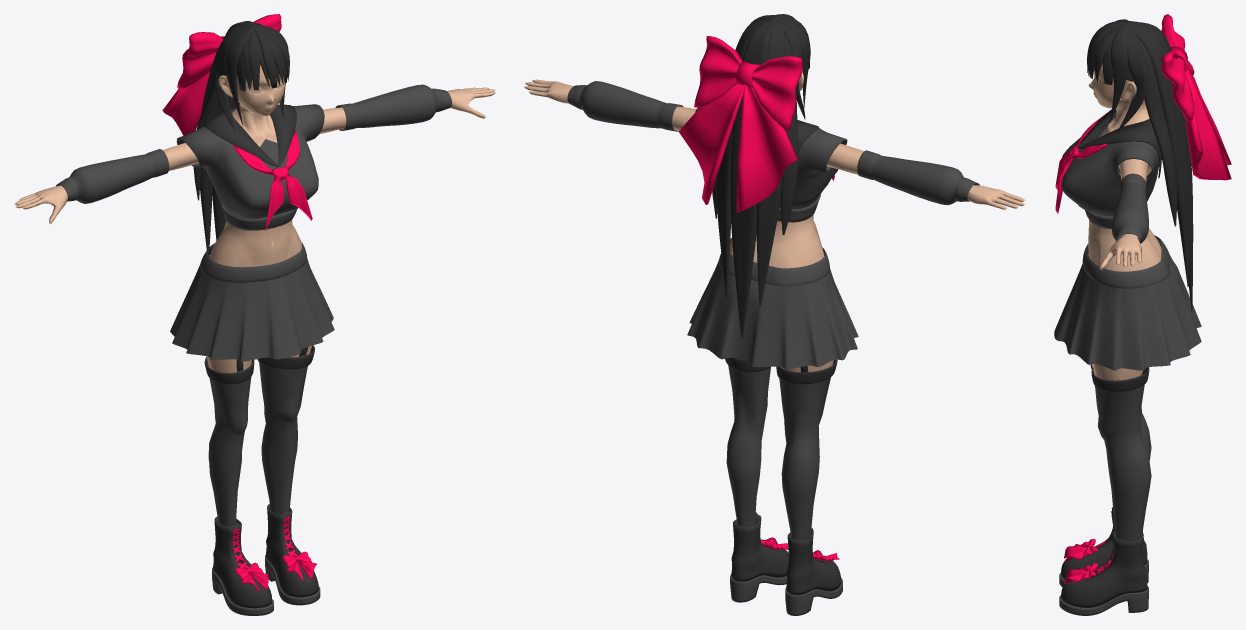
File: Elzena.Original.fbx
3 views of the same model, side by side, from view 1: azimuth 30°, elevation 25°; view 2: azimuth 150°, elevation 25°; view 3: azimuth 270°, elevation 25° (orthographic). The views are drawn at different scales.
Parts seen in each view (by area): view 1: スカート, ニーソ, 素体, 服, 袖, 靴, 髪リボン, 襟, 結.001, スカートゴム, hair.mesh.015, 靴底 (+5 smaller); view 2: 髪リボン, スカート, ニーソ, 袖, 素体, 靴, hair.mesh.002, 服, hair.mesh.015, hair.mesh.007, 靴底, スカートゴム (+2 smaller); view 3: スカート, ニーソ, 素体, 服, 髪リボン, 靴, hair.mesh.007, hair.mesh.003, 袖, スカートゴム, 襟, hair.mesh.013 (+8 smaller).
Boxes of the visible parts, <box> form: スカート: <box>170,254,334,361</box>; ニーソ: <box>208,362,307,526</box>; 素体: <box>14,64,495,372</box>; 服: <box>176,104,324,230</box>; 袖: <box>56,84,451,203</box>; 靴: <box>213,504,318,608</box>; 髪リボン: <box>162,14,281,135</box>; 襟: <box>200,104,296,167</box>; 結.001: <box>233,129,312,231</box>; スカートゴム: <box>200,243,306,282</box>; hair.mesh.015: <box>200,25,248,249</box>; 靴底: <box>212,555,320,615</box>; 髪リボン: <box>678,36,802,212</box>; スカート: <box>687,260,858,369</box>; ニーソ: <box>726,365,830,539</box>; 袖: <box>567,81,979,205</box>; 素体: <box>524,69,1025,372</box>; 靴: <box>731,512,841,595</box>; hair.mesh.002: <box>730,19,776,337</box>; 服: <box>695,107,847,222</box>; hair.mesh.015: <box>756,21,786,305</box>; hair.mesh.007: <box>716,19,768,297</box>; 靴底: <box>730,574,842,615</box>; スカートゴム: <box>719,238,829,286</box>; スカート: <box>1054,254,1201,370</box>; ニーソ: <box>1095,384,1151,540</box>; 素体: <box>1088,61,1161,380</box>; 服: <box>1061,117,1159,229</box>; 髪リボン: <box>1161,14,1231,180</box>; 靴: <box>1061,507,1147,607</box>; hair.mesh.007: <box>1129,25,1190,286</box>; hair.mesh.003: <box>1128,22,1177,226</box>; 袖: <box>1111,173,1148,243</box>; スカートゴム: <box>1082,235,1169,288</box>; 襟: <box>1077,104,1161,178</box>; hair.mesh.013: <box>1117,28,1147,131</box>.
Bounding box in the file's own units: 142 × 159 × 44.6.
